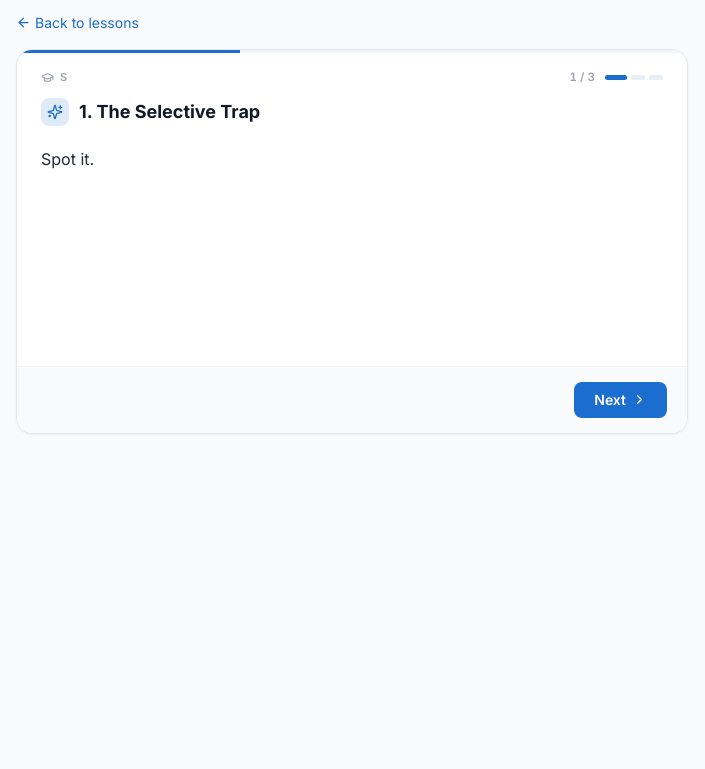
Test: segmented lesson player › carries the figure onto the Guided Quiz card when the quiz references it (W-135)
Expected: the text "Spot it." is shown, [41, 149, 94, 169]
Click the button "Next" at (621, 400), box [574, 382, 667, 418]
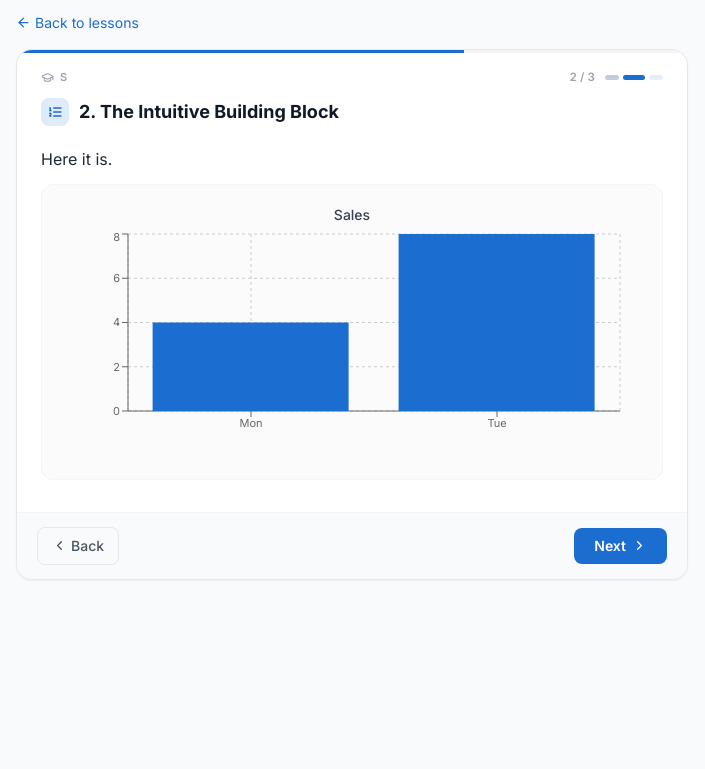
Click the button "Next" at (621, 546), box [574, 528, 667, 564]
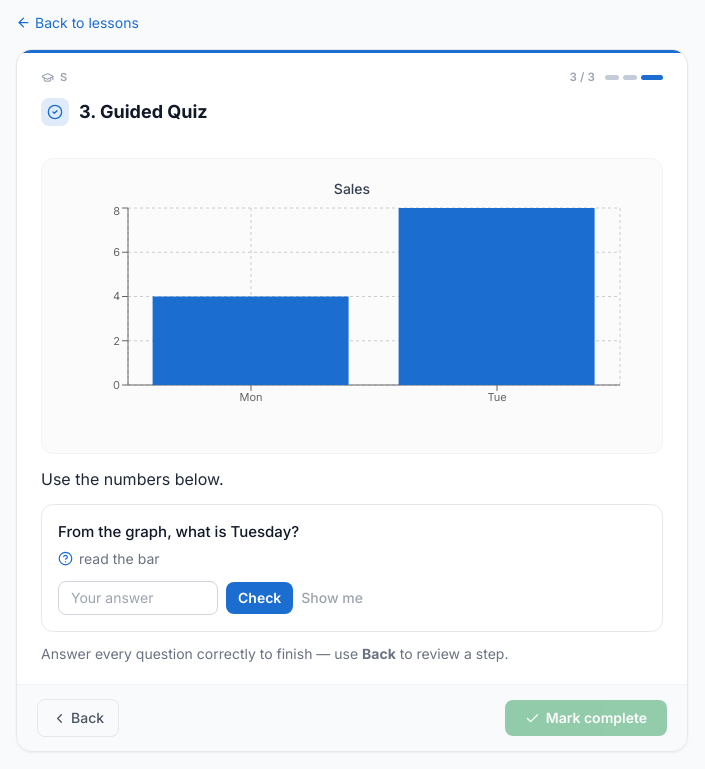
Expected: the element with test id "stimulus-bar-chart" is shown, [54, 171, 650, 441]
Expected: the text "From the graph, what is Tuesday?" is shown, [58, 522, 299, 541]
